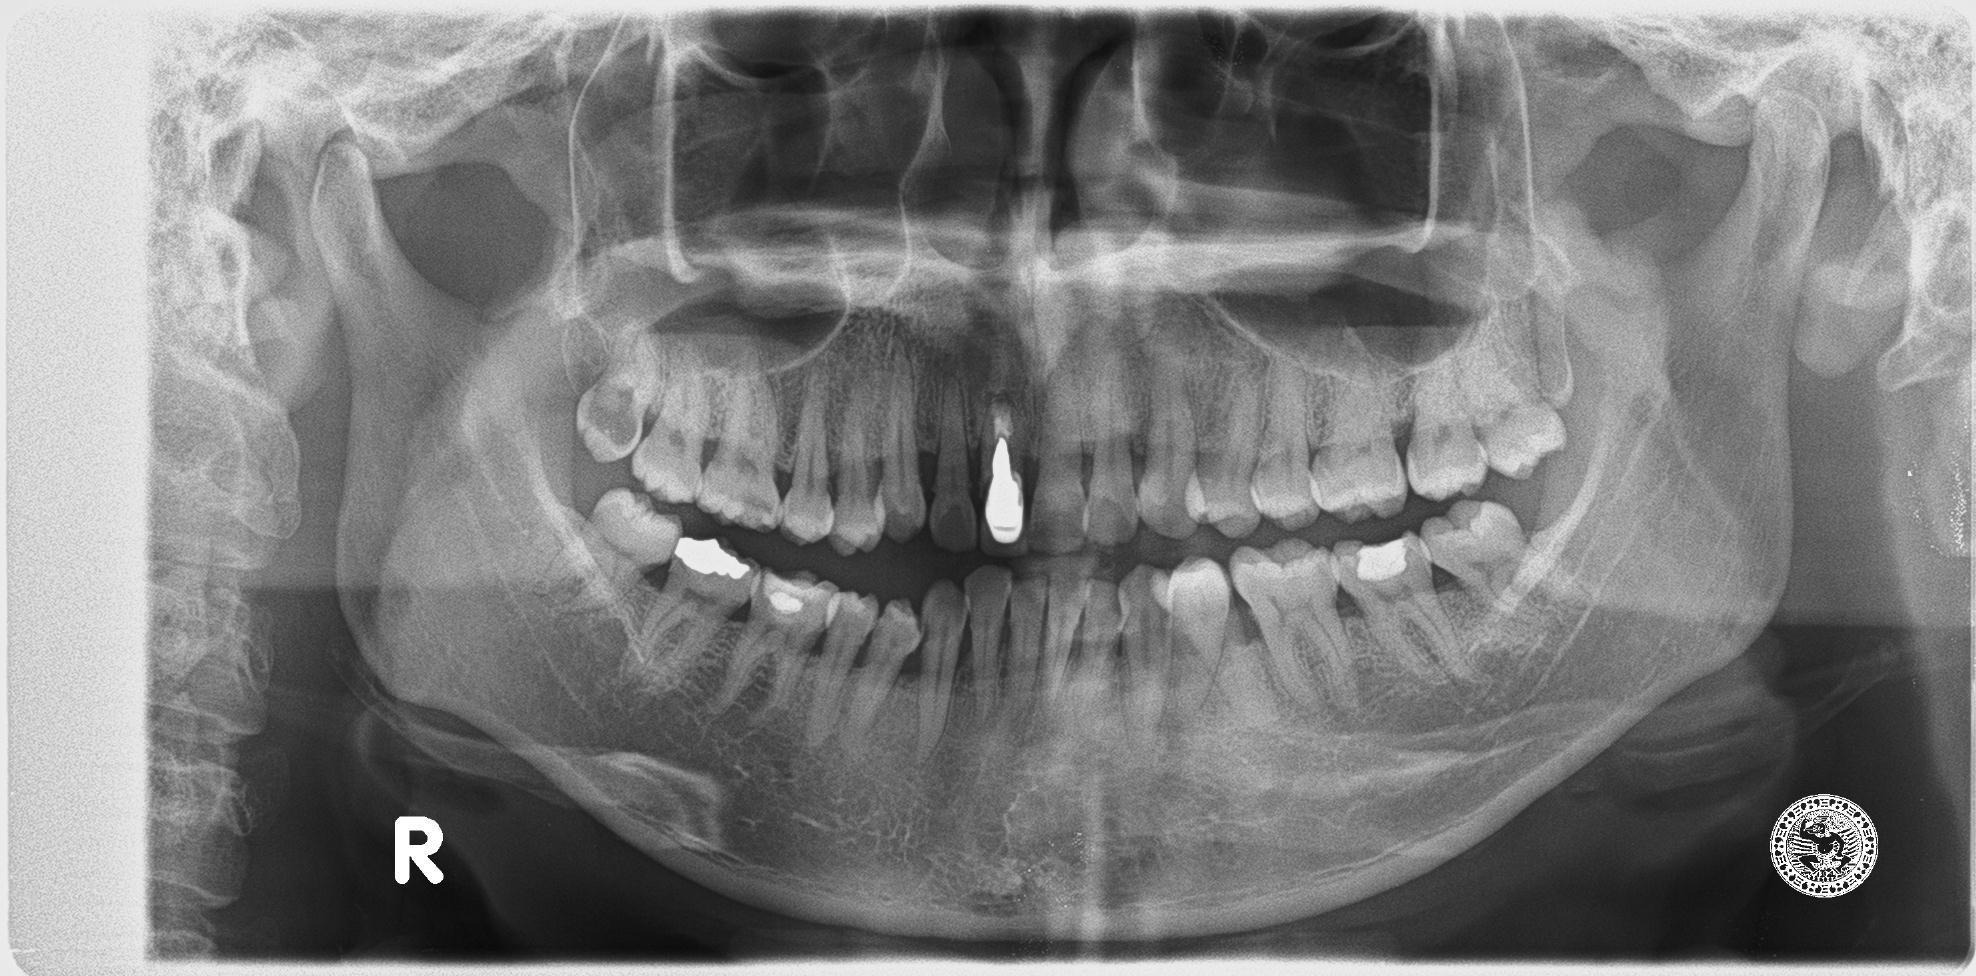Individual Tooth: (1415, 501, 1593, 628), (1227, 538, 1357, 711), (1330, 532, 1469, 681), (527, 488, 681, 612), (717, 569, 833, 731), (1308, 328, 1406, 517), (1185, 335, 1269, 537), (639, 537, 757, 678), (1406, 327, 1487, 501), (1461, 349, 1565, 478), (696, 372, 780, 528), (838, 600, 920, 760), (631, 337, 709, 503), (1138, 338, 1197, 538), (1084, 334, 1139, 545), (1028, 354, 1086, 554), (576, 333, 664, 462), (1251, 359, 1318, 528), (829, 356, 885, 555), (808, 593, 878, 744), (1167, 557, 1232, 706), (928, 380, 979, 551), (1119, 566, 1169, 741), (783, 372, 834, 542), (917, 581, 967, 759), (880, 353, 924, 540), (1038, 556, 1093, 694), (967, 565, 1011, 723), (980, 398, 1025, 554), (1071, 579, 1123, 695), (1006, 571, 1048, 688)
